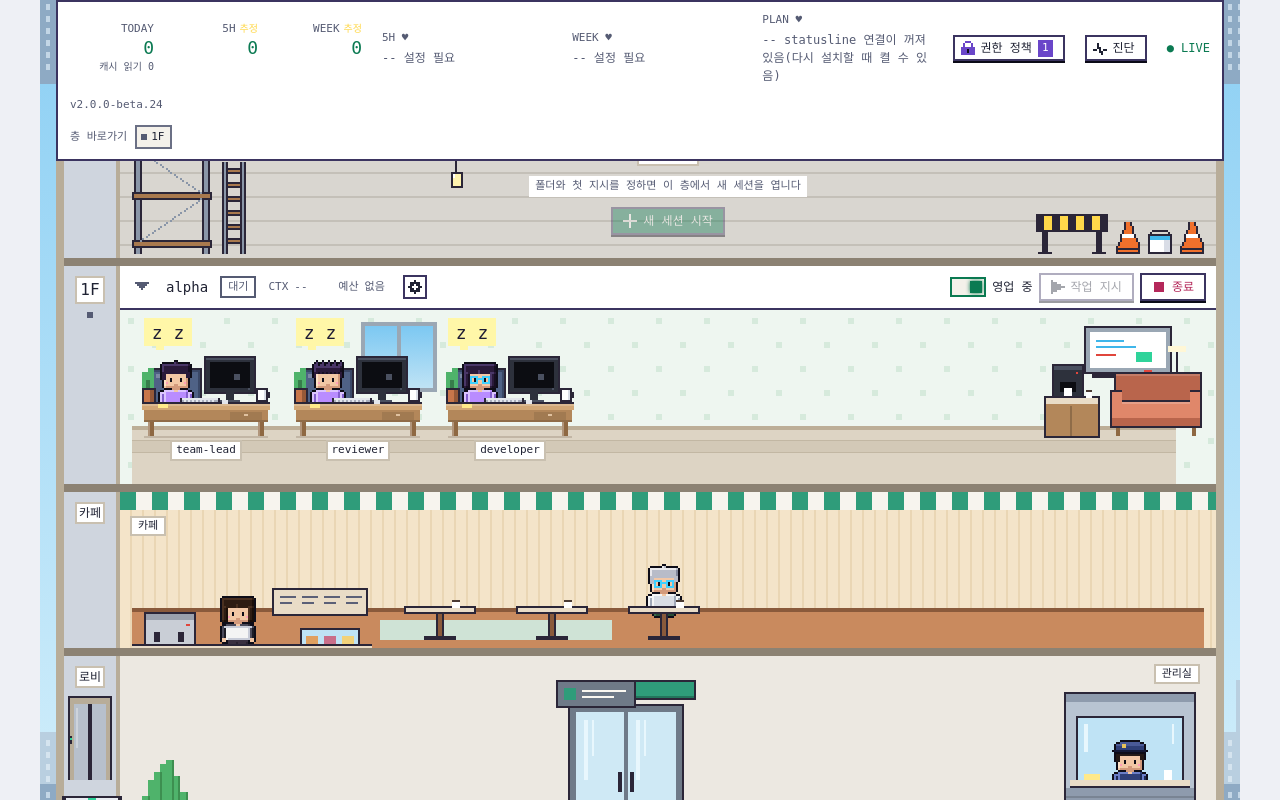
편집과 저장 › 모두 기본으로 저장하면 빈 rules를 보낸다(대상이 지워진다)
(page scrolled)
Click the button with test id "desk-reviewer" at [358, 401], box left=292, top=318, right=424, bottom=484
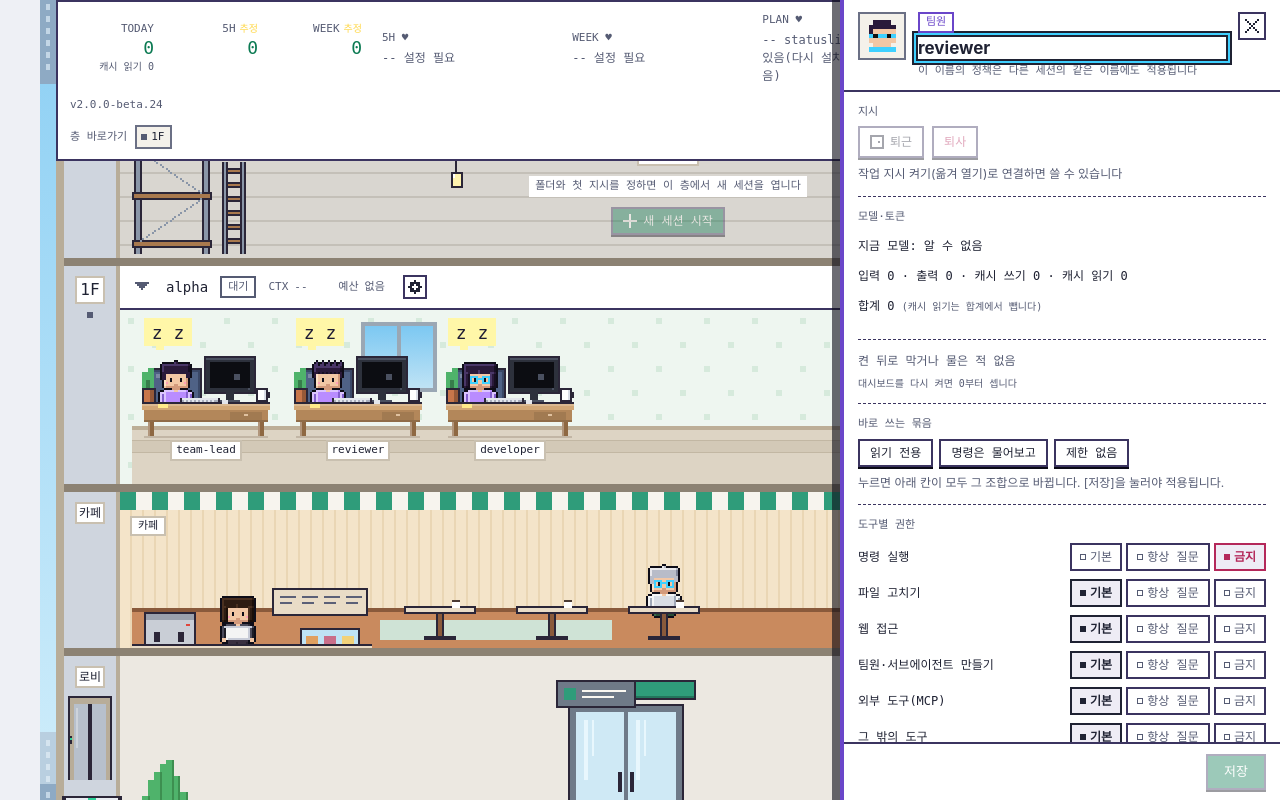
Click the button "제한 없음" at [1092, 453], box left=1054, top=439, right=1129, bottom=467
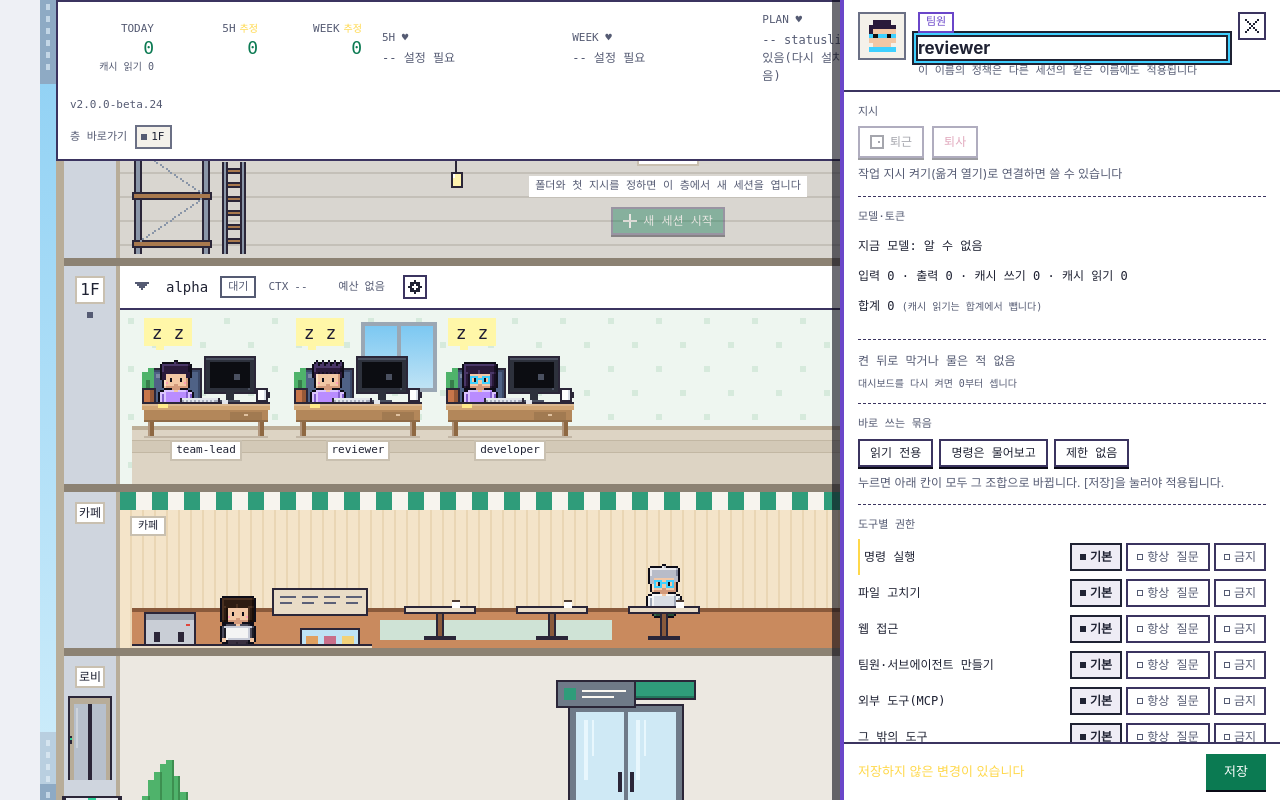
Click the button "저장" at [1236, 772], box left=1206, top=754, right=1266, bottom=790
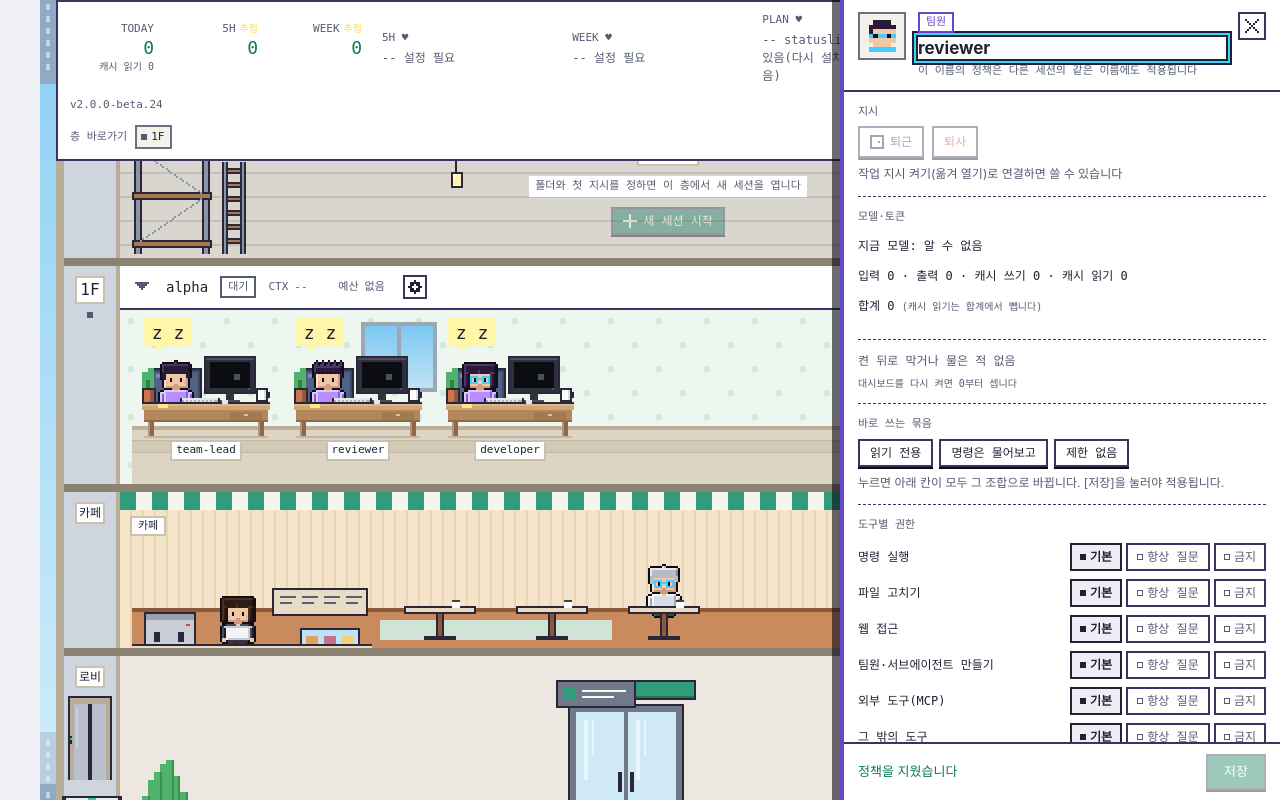
Expected: the dialog named "." shows "정책을 지웠습니다", left=858, top=763, right=957, bottom=779
